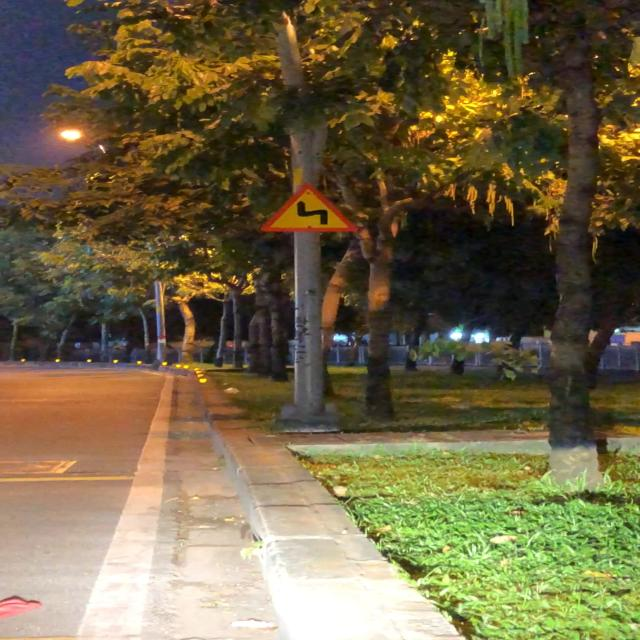Bien bao nhieu cho ngoat nguy hiem lien tiep: (256, 182, 361, 235)
